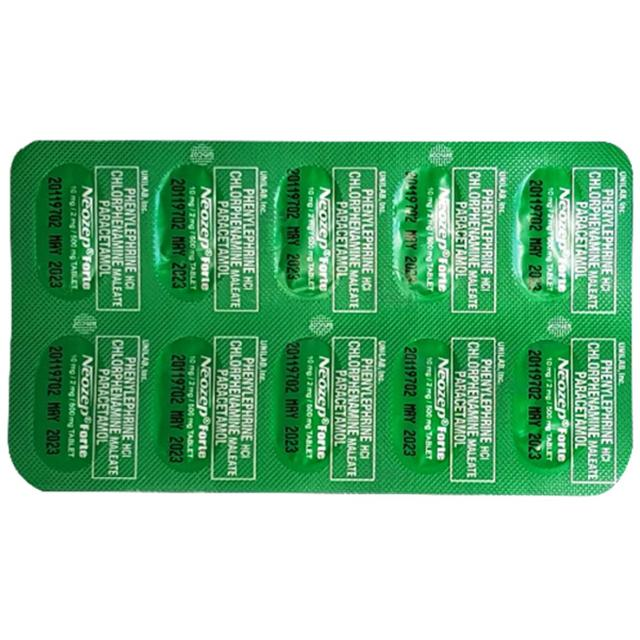blister: (4, 135, 636, 502)
